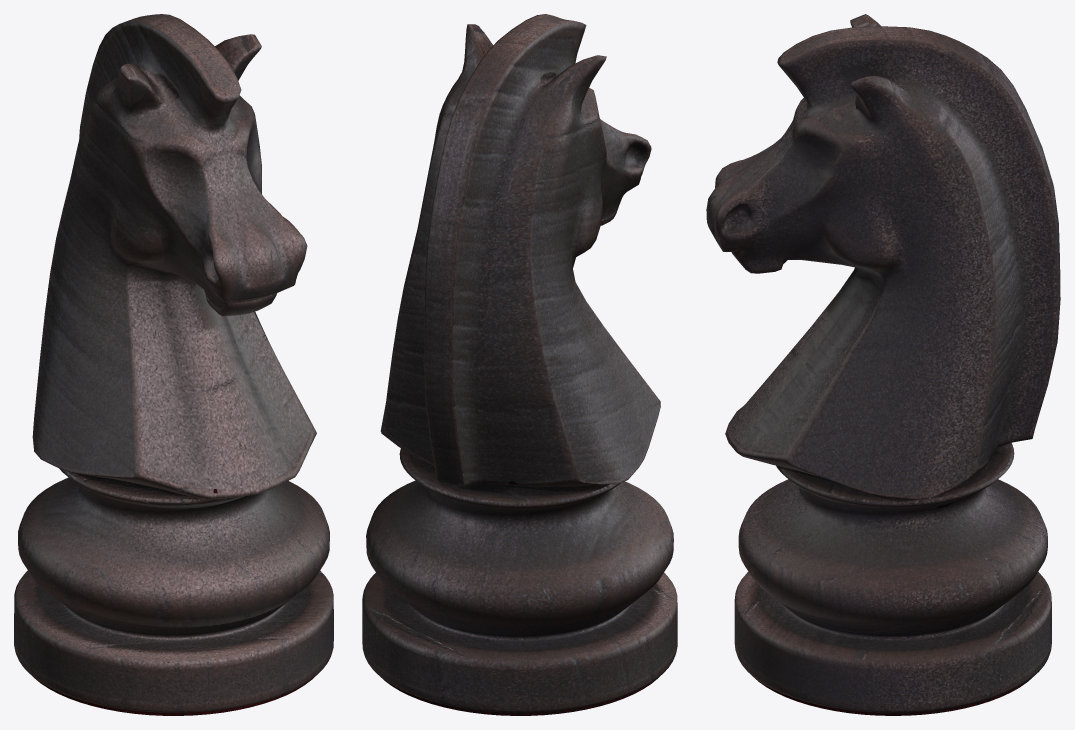
File: chessknightexport.obj
3 renders of one model, left to right at view 1: azimuth 30°, elevation 25°; view 2: azimuth 150°, elevation 25°; view 3: azimuth 270°, elevation 25°, orthographic.
Parts seen in each view (by area): view 1: Cylinder; view 2: Cylinder; view 3: Cylinder.
Part boxes in pixels (x1,y1,x2,y2): Cylinder: (14,14,333,715); Cylinder: (362,14,677,715); Cylinder: (706,14,1060,715).
Bounding box in the file's own units: 405 × 874 × 452.
